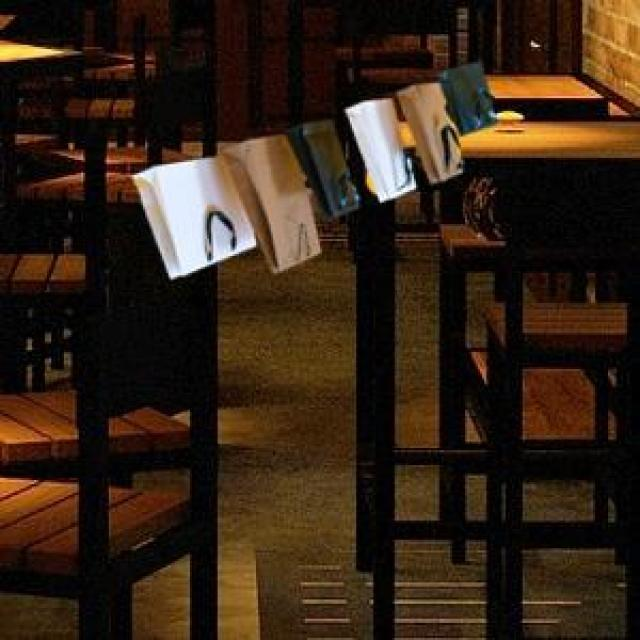paper: (128, 58, 493, 273)
